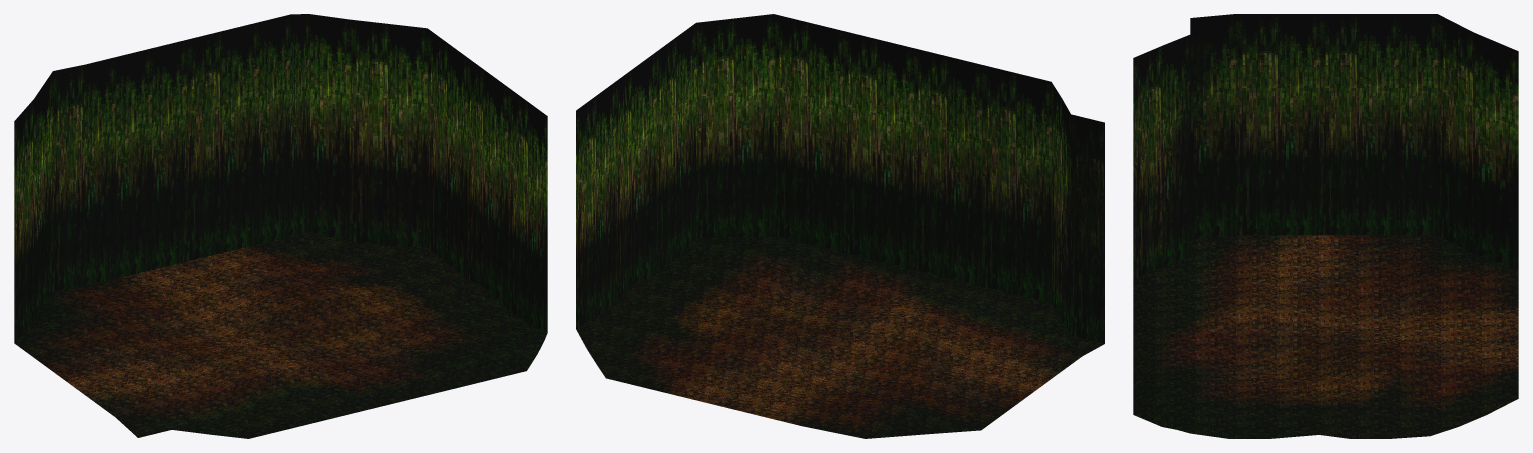
File: Cuba.glb
3 renders of one model, left to right at view 1: azimuth 30°, elevation 25°; view 2: azimuth 150°, elevation 25°; view 3: azimuth 270°, elevation 25°, orthographic.
Parts seen in each view (by area): view 1: Cuba_6, Cuba_3, Cuba_5, Cuba_1, Cuba_2, Cuba_0, Cuba_4; view 2: Cuba_6, Cuba_2, Cuba_4, Cuba_0, Cuba_3, Cuba_5, Cuba_1; view 3: Cuba_6, Cuba_1, Cuba_3, Cuba_5, Cuba_0, Cuba_2, Cuba_4.
Boxes of the visible parts, x1,y1,x2,y2 form: Cuba_6: (14,232,547,438); Cuba_3: (34,87,547,264); Cuba_5: (34,14,547,189); Cuba_1: (34,162,547,332); Cuba_2: (14,93,528,267); Cuba_0: (14,168,528,342); Cuba_4: (14,19,528,194); Cuba_6: (576,235,1104,438); Cuba_2: (576,87,1104,270); Cuba_4: (576,14,1104,195); Cuba_0: (576,162,1104,343); Cuba_3: (596,87,1070,261); Cuba_5: (596,14,1070,186); Cuba_1: (596,162,1070,334); Cuba_6: (1133,235,1518,438); Cuba_1: (1162,160,1518,269); Cuba_3: (1162,87,1518,196); Cuba_5: (1162,14,1518,123); Cuba_0: (1133,160,1473,279); Cuba_2: (1133,87,1473,205); Cuba_4: (1133,14,1473,130).
Bounding box in the file's own units: 39.38 × 21 × 32.13.
Materials: 7 (7 with a texture image).
